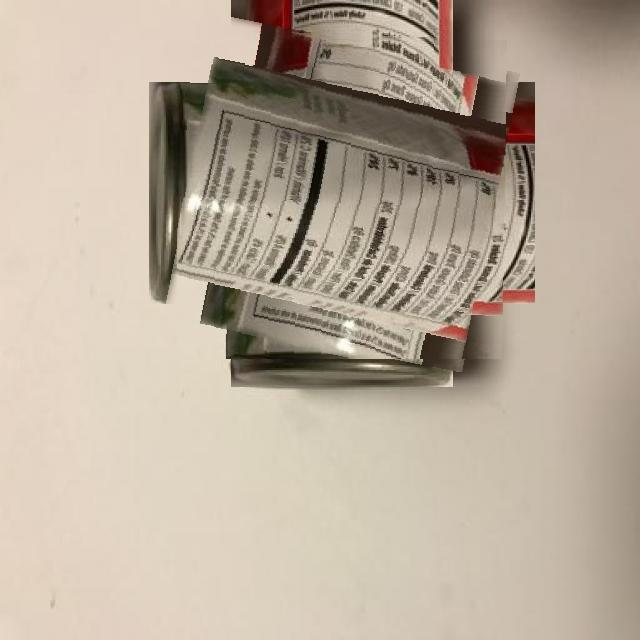recyclable: (177, 28, 507, 359)
